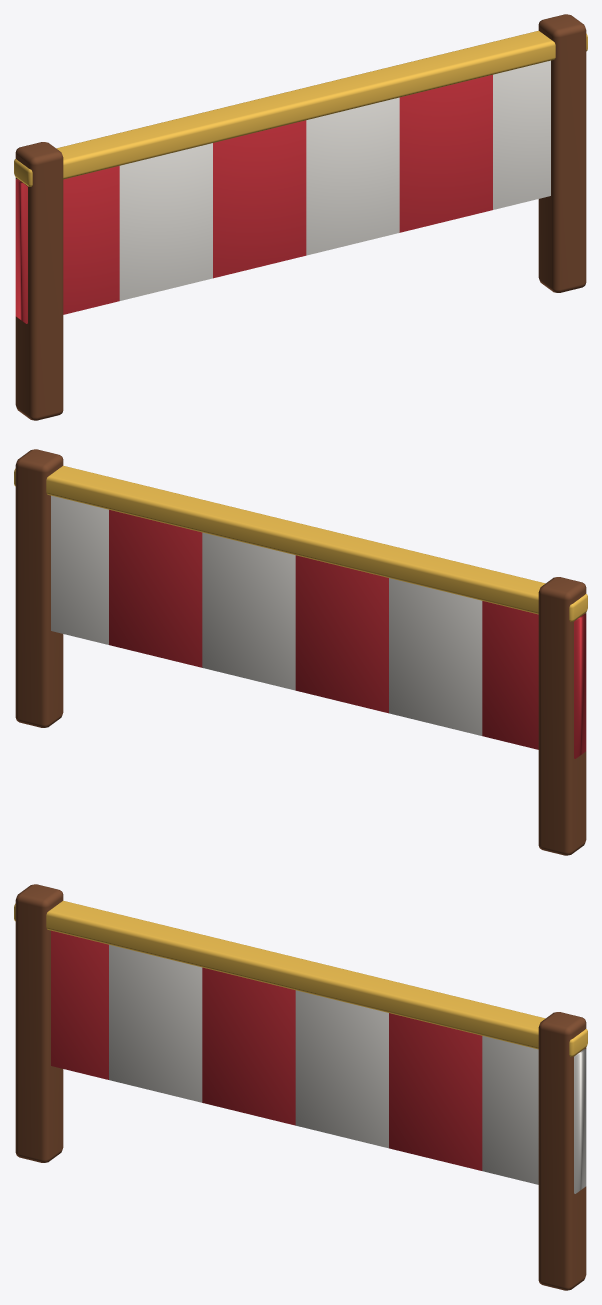
File: faire_tilt.glb
3 views of the same model, one above another, from view 1: azimuth 30°, elevation 25°; view 2: azimuth 150°, elevation 25°; view 3: azimuth 330°, elevation 25° (orthographic).
Visible parts, largest first — view 1: Tilt; view 2: Tilt; view 3: Tilt.
Part boxes in pixels (left/top/right/bottom): Tilt: left=14, top=14, right=587, bottom=420; Tilt: left=14, top=449, right=587, bottom=855; Tilt: left=14, top=884, right=587, bottom=1290.
Bounding box in the file's own units: 3 × 1.35 × 0.18.
